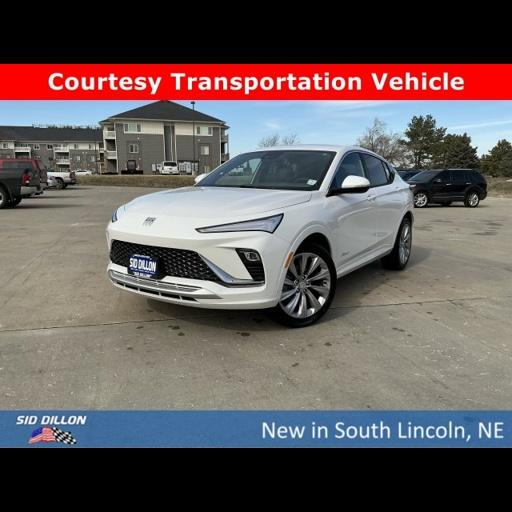hatchback: (74, 169, 92, 175)
suv: (106, 144, 412, 326), (406, 169, 486, 207), (0, 158, 46, 202), (42, 167, 63, 197), (397, 169, 422, 179), (160, 160, 179, 172)
truck: (0, 163, 46, 213), (32, 166, 80, 195)
